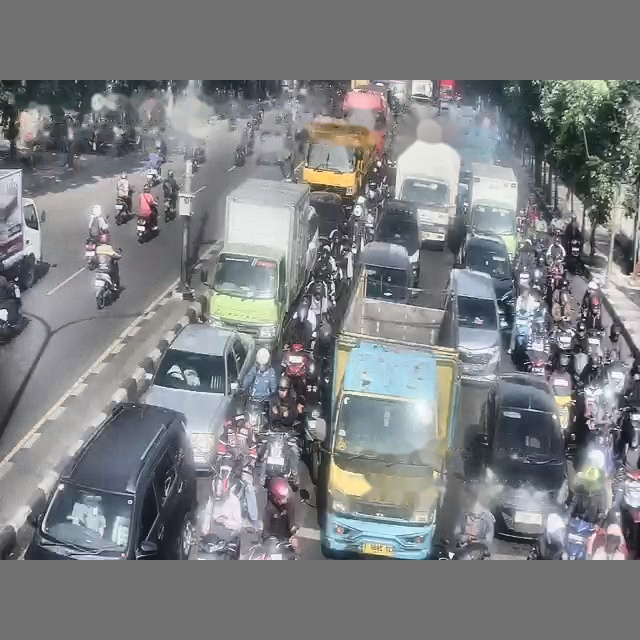Mobil: (25, 403, 196, 559), (143, 323, 255, 474), (477, 372, 567, 538), (448, 269, 500, 382), (457, 235, 514, 328)
Motor: (620, 467, 639, 557), (0, 278, 25, 343), (94, 271, 118, 309), (114, 189, 132, 225), (136, 216, 157, 244), (85, 238, 97, 270), (163, 192, 176, 221), (234, 146, 245, 166)
Truk: (317, 270, 460, 559), (203, 178, 317, 351), (395, 140, 460, 247), (0, 169, 44, 289), (467, 163, 518, 256), (410, 80, 433, 100)
